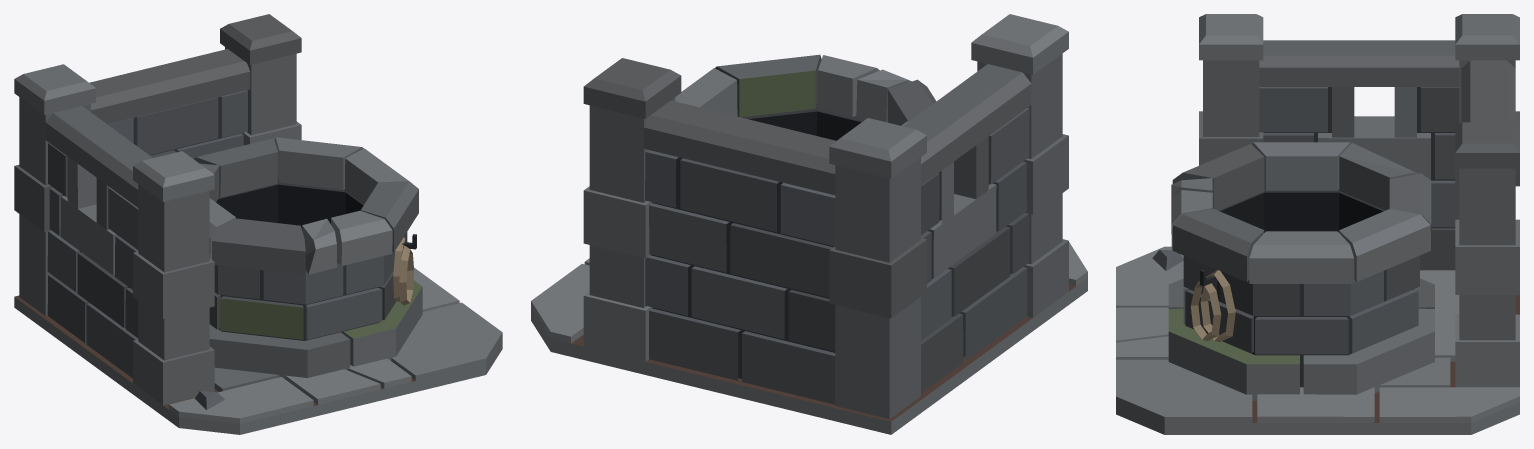
Rendered from stage4_crypt_well_head.glb.
The picture shows the model from 3 angles, left to right: view 1: azimuth 30°, elevation 25°; view 2: azimuth 150°, elevation 25°; view 3: azimuth 270°, elevation 25°; orthographic projection. The views are drawn at different scales.
Visible parts, largest first — view 1: well-head, rope-coil; view 2: well-head; view 3: well-head, rope-coil.
Boxes of the visible parts, left/top/right/bottom form: well-head: left=14, top=14, right=502, bottom=434; rope-coil: left=393, top=237, right=413, bottom=305; well-head: left=531, top=14, right=1087, bottom=434; well-head: left=1116, top=14, right=1519, bottom=434; rope-coil: left=1190, top=270, right=1235, bottom=342.
Bounding box in the file's own units: 2 × 1.38 × 2.
